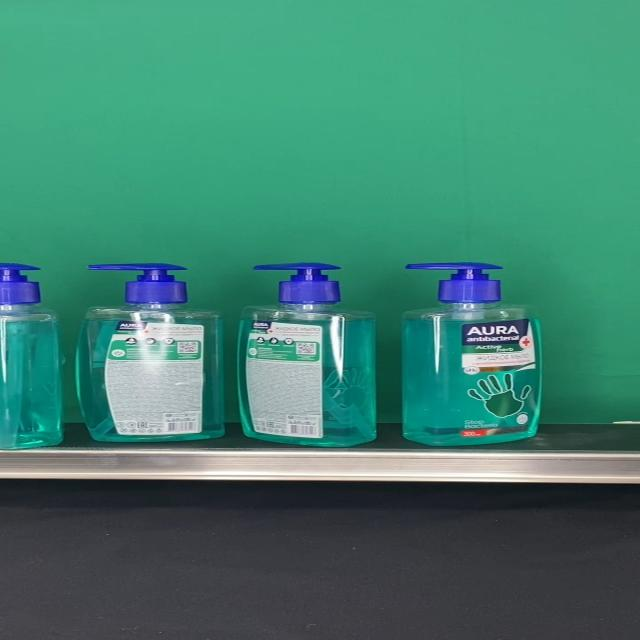Bottle: (78, 263, 224, 442), (400, 262, 540, 445), (238, 263, 375, 446)
Cap: (404, 262, 503, 304), (88, 263, 186, 305), (252, 263, 341, 305)
